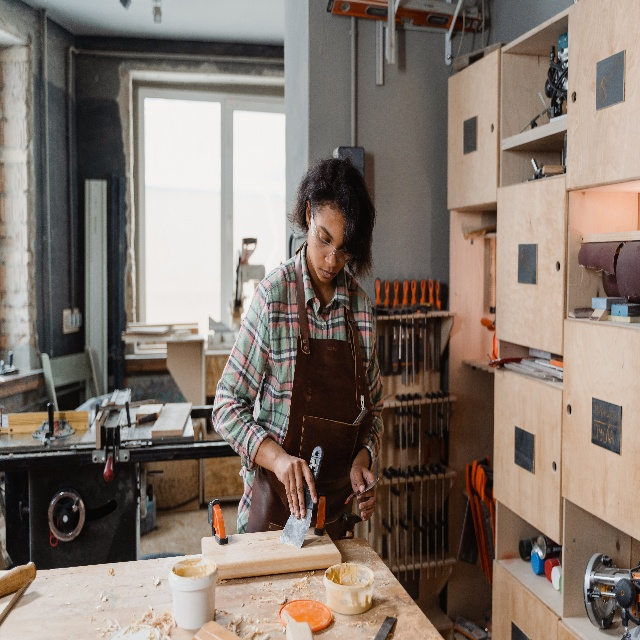Gafas: (311, 219, 350, 263)
Sin_guantes: (276, 457, 317, 517), (350, 465, 377, 525)
